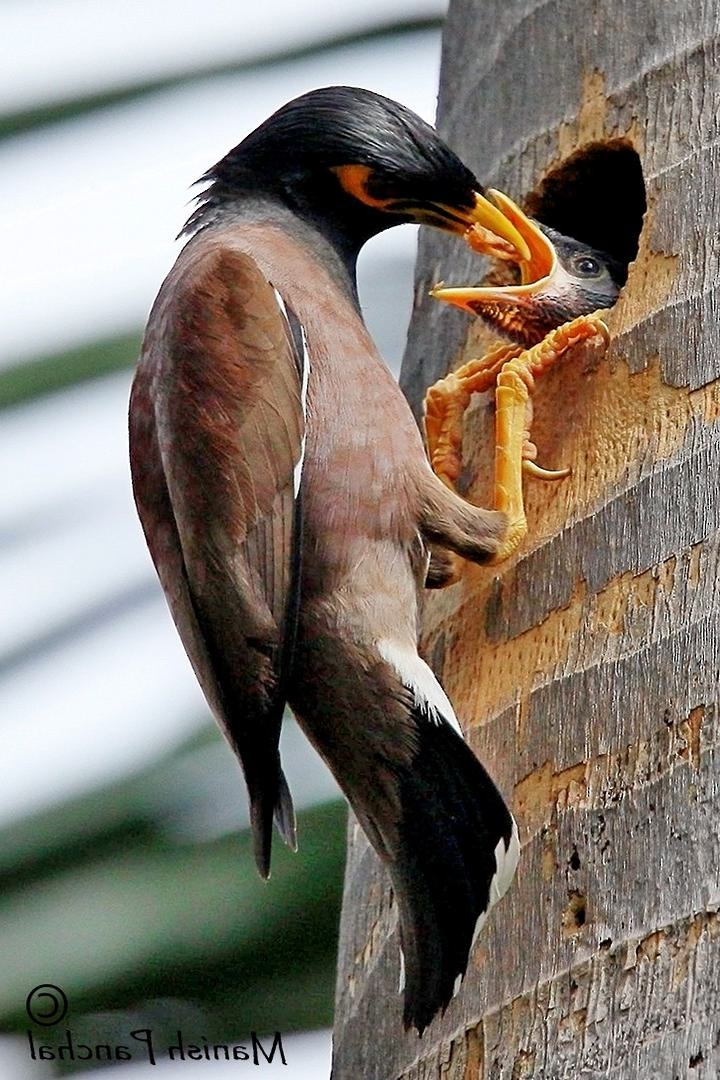myna: (154, 85, 521, 909)
